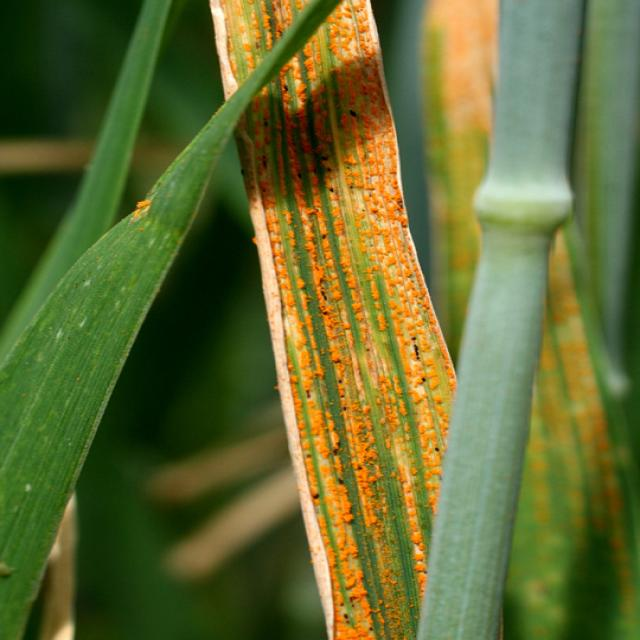leaf_rust: (238, 0, 454, 639), (216, 0, 308, 88)
